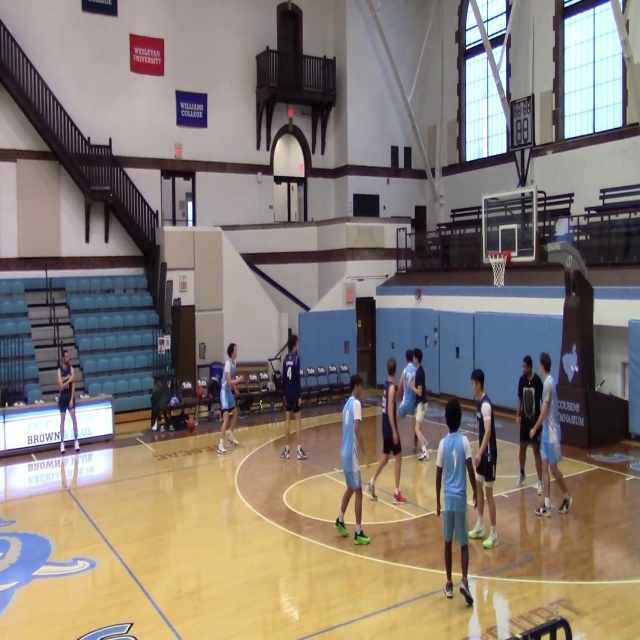Basketball: (196, 386, 205, 397), (187, 420, 195, 430)
